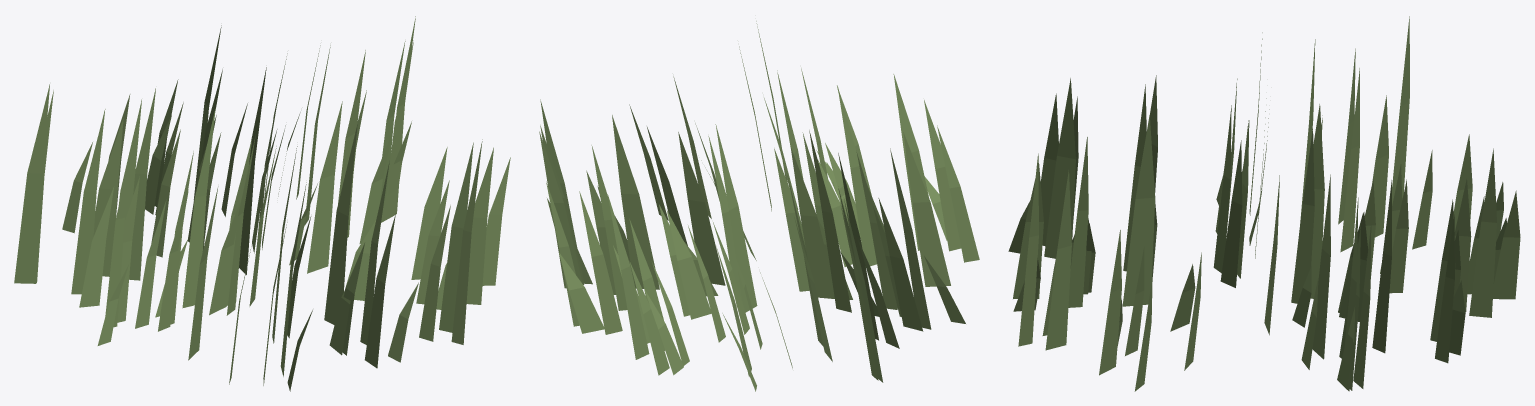
Rendered from grass_patch.glb.
3 renders of one model, left to right at view 1: azimuth 30°, elevation 25°; view 2: azimuth 150°, elevation 25°; view 3: azimuth 270°, elevation 25°, orthographic. The views are drawn at different scales.
Visible parts, largest first — view 1: GrassBlades; view 2: GrassBlades; view 3: GrassBlades.
Boxes of the visible parts, x1,y1,x2,y2 form: GrassBlades: (14,16,510,391); GrassBlades: (539,21,979,391); GrassBlades: (1008,16,1520,391).
Bounding box in the file's own units: 1.12 × 0.5391 × 1.18.
